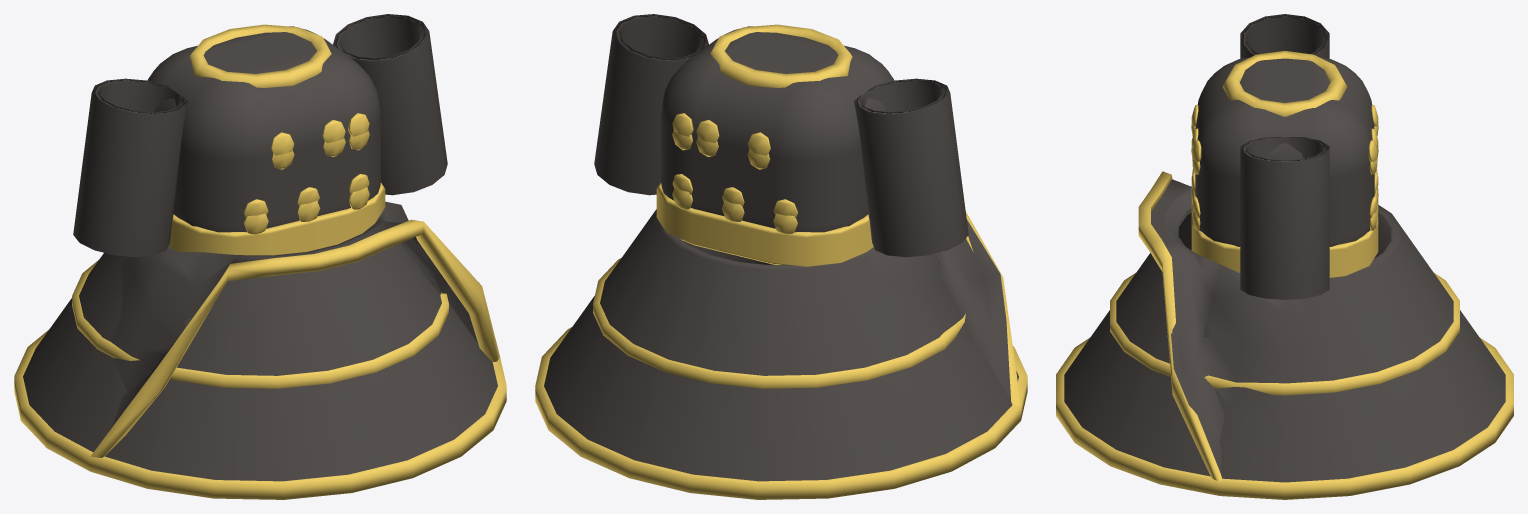
The model's file is butterfly_visiting_kimono.glb.
3 renders of one model, left to right at view 1: azimuth 30°, elevation 25°; view 2: azimuth 150°, elevation 25°; view 3: azimuth 270°, elevation 25°, orthographic. The views are drawn at different scales.
Visible parts, largest first — view 1: butterfly_visiting_kimono_Body, butterfly_visiting_kimono_Body_sit, butterfly_visiting_kimono_ArmL, butterfly_visiting_kimono_ArmR; view 2: butterfly_visiting_kimono_Body, butterfly_visiting_kimono_Body_sit, butterfly_visiting_kimono_ArmL, butterfly_visiting_kimono_ArmR; view 3: butterfly_visiting_kimono_Body, butterfly_visiting_kimono_Body_sit, butterfly_visiting_kimono_ArmR, butterfly_visiting_kimono_ArmL.
Part boxes in pixels (box(x1,y1,x2,y2)): butterfly_visiting_kimono_Body: box(14, 24, 506, 499); butterfly_visiting_kimono_Body_sit: box(90, 51, 499, 457); butterfly_visiting_kimono_ArmL: box(73, 78, 188, 257); butterfly_visiting_kimono_ArmR: box(333, 14, 447, 195); butterfly_visiting_kimono_Body: box(535, 24, 1027, 499); butterfly_visiting_kimono_Body_sit: box(656, 49, 1020, 405); butterfly_visiting_kimono_ArmL: box(853, 78, 968, 257); butterfly_visiting_kimono_ArmR: box(594, 14, 708, 195); butterfly_visiting_kimono_Body: box(1056, 51, 1513, 499); butterfly_visiting_kimono_Body_sit: box(1138, 101, 1391, 481); butterfly_visiting_kimono_ArmR: box(1240, 137, 1329, 299); butterfly_visiting_kimono_ArmL: box(1240, 14, 1329, 58).
Bounding box in the file's own units: 0.748 × 0.6289 × 0.7404.
